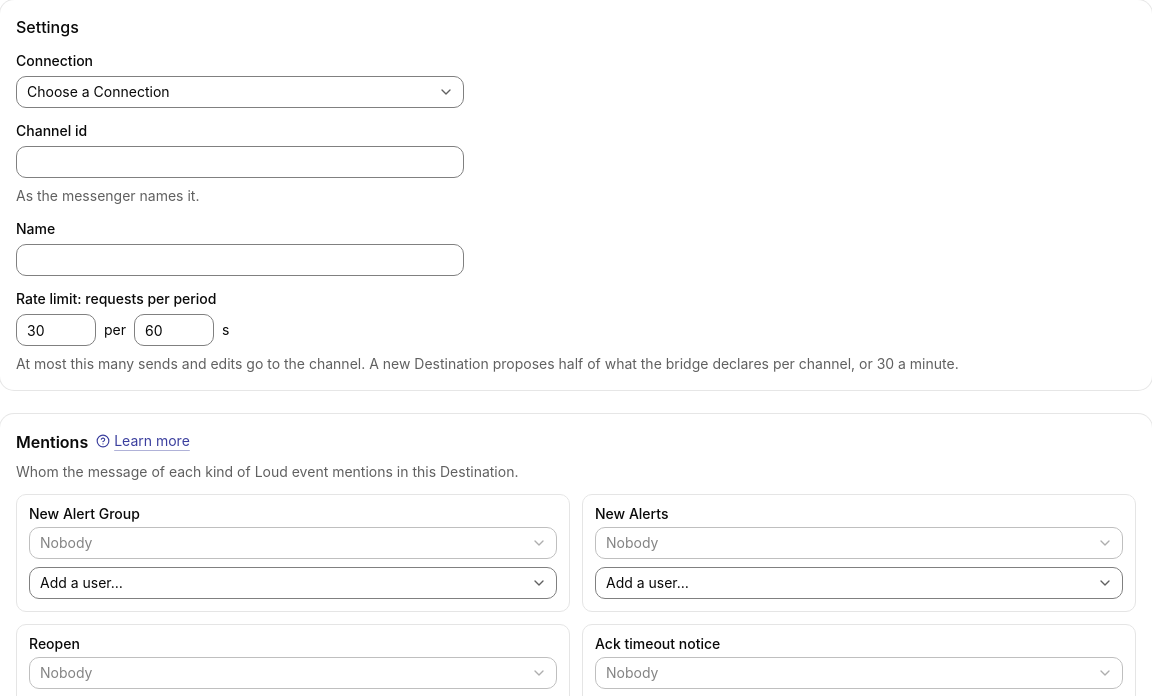
DestinationForm with the Bridge fields › offers nobody and chosen users only
The image size is (1152, 696).
Check: the dropdown labelled "New Alert Group" is disabled, box [29,527,557,559]
Check: the dropdown labelled "New Alerts" is disabled, box [595,527,1123,559]
Select "Alice (alice)" in the dropdown named "Add a user to mention for New Alert Group". click: (293,583)
box: [29,567,557,599]
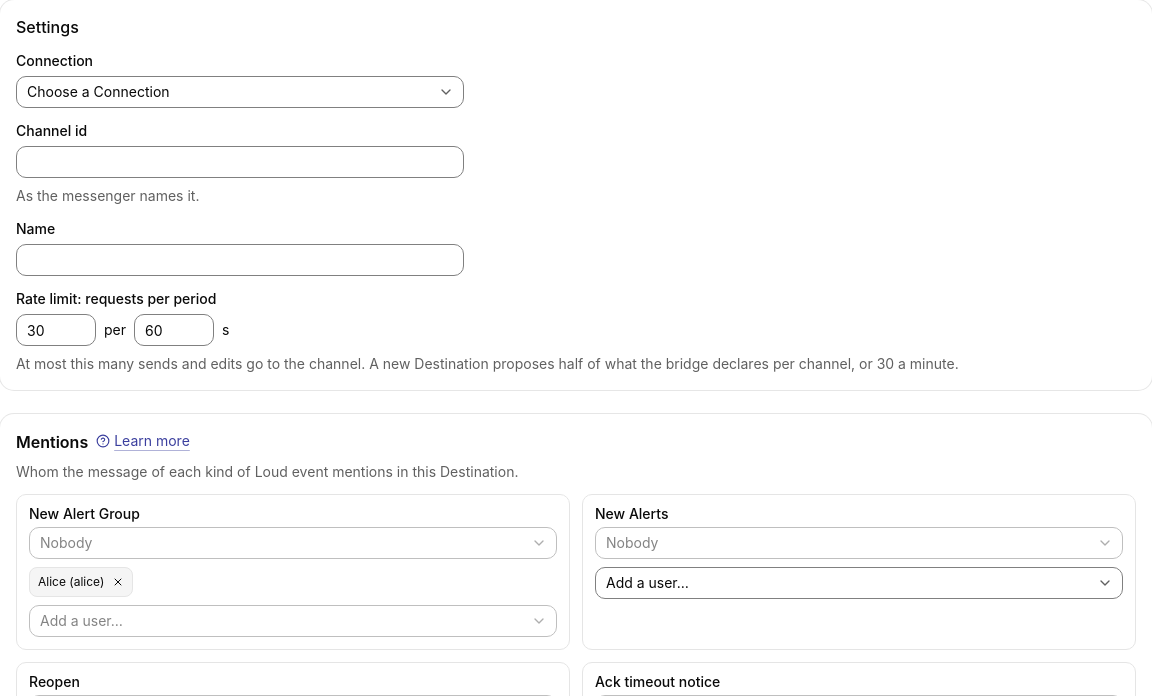
Check: the button named "Remove Alice (alice)" is shown, box [106,570,130,594]
